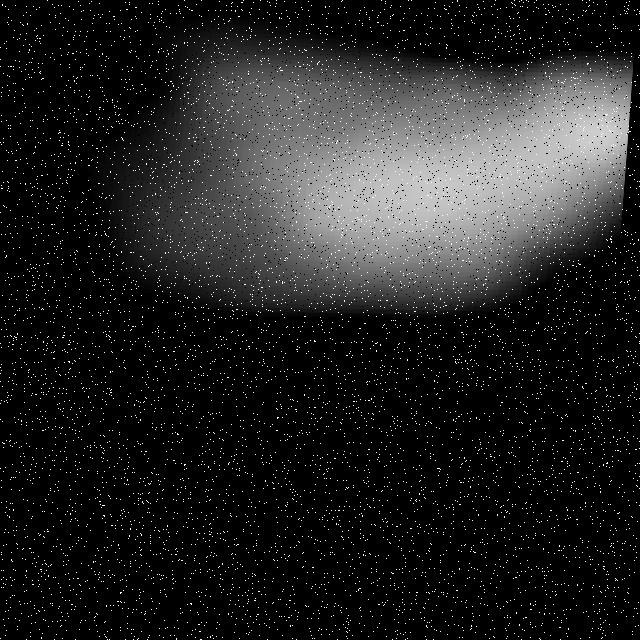person: (31, 1, 640, 353)
